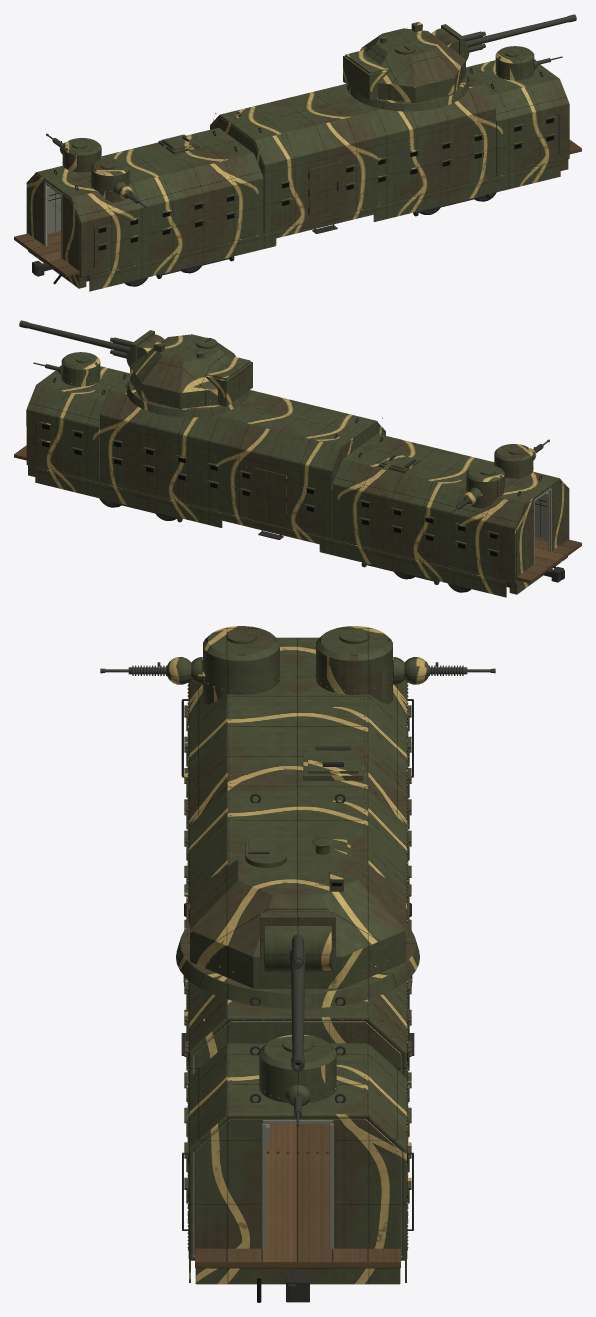
File: gun_car_a.glb
3 views of the same model, one above another, from view 1: azimuth 30°, elevation 25°; view 2: azimuth 150°, elevation 25°; view 3: azimuth 270°, elevation 25° (orthographic). The views are drawn at different scales.
Parts seen in each view (by area): view 1: HullMidShell, HullRearShell, TurretBody, SkirtsAndJacks, HullFrontShell, HullRearInterior, MgCupolas, HullMidDetails, HullRearDetails, Barrel, Underframe, HullMidInterior (+4 smaller); view 2: HullMidShell, HullRearShell, TurretBody, SkirtsAndJacks, HullFrontShell, HullRearInterior, MgCupolas, HullMidDetails, HullRearDetails, Barrel, Underframe, HullMidInterior (+4 smaller); view 3: TurretBody, HullFrontInterior, HullRearShell, HullMidShell, MgCupolas, HullFrontShell, HullMidInterior, Underframe, HullRearDetails, Mantlet, Barrel, HullMidDetails (+3 smaller).
Boxes of the visible parts, x1=… form: HullMidShell: x1=210, y1=69, x2=495, y2=233; HullRearShell: x1=26, y1=127, x2=263, y2=277; TurretBody: x1=343, y1=21, x2=468, y2=111; SkirtsAndJacks: x1=89, y1=161, x2=560, y2=291; HullFrontShell: x1=466, y1=60, x2=569, y2=176; HullRearInterior: x1=14, y1=175, x2=79, y2=277; MgCupolas: x1=62, y1=46, x2=562, y2=202; HullMidDetails: x1=237, y1=77, x2=486, y2=233; HullRearDetails: x1=54, y1=130, x2=238, y2=267; Barrel: x1=462, y1=14, x2=576, y2=52; Underframe: x1=28, y1=159, x2=568, y2=288; HullMidInterior: x1=211, y1=117, x2=263, y2=175; HullMidShell: x1=100, y1=375, x2=385, y2=539; HullRearShell: x1=332, y1=433, x2=569, y2=583; TurretBody: x1=127, y1=330, x2=252, y2=417; SkirtsAndJacks: x1=35, y1=467, x2=506, y2=597; HullFrontShell: x1=26, y1=366, x2=129, y2=482; HullRearInterior: x1=516, y1=481, x2=581, y2=583; MgCupolas: x1=33, y1=352, x2=533, y2=508; HullMidDetails: x1=109, y1=382, x2=358, y2=539; HullRearDetails: x1=357, y1=436, x2=541, y2=573; Barrel: x1=19, y1=320, x2=133, y2=358; Underframe: x1=28, y1=465, x2=567, y2=594; HullMidInterior: x1=332, y1=423, x2=384, y2=481; TurretBody: x1=176, y1=837, x2=419, y2=1008; HullFrontInterior: x1=194, y1=1118, x2=401, y2=1268; HullRearShell: x1=188, y1=637, x2=407, y2=826; HullMidShell: x1=188, y1=791, x2=407, y2=1079; MgCupolas: x1=203, y1=626, x2=392, y2=1126; HullFrontShell: x1=188, y1=1043, x2=407, y2=1260; HullMidInterior: x1=194, y1=1021, x2=401, y2=1190; Underframe: x1=195, y1=1268, x2=400, y2=1302; HullRearDetails: x1=181, y1=699, x2=413, y2=884; Mantlet: x1=264, y1=910, x2=331, y2=971; Barrel: x1=290, y1=934, x2=305, y2=1071; HullMidDetails: x1=181, y1=793, x2=414, y2=1110.
Bounding box in the file's own units: 17.72 × 5.4 × 5.6.
14 materials, 3 textured.
